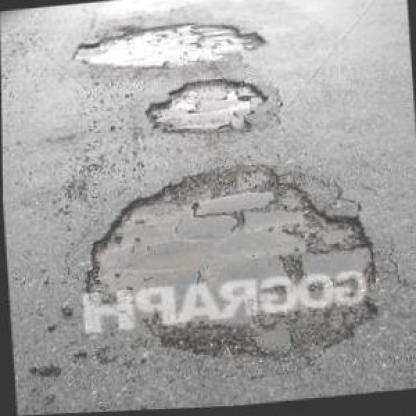pothole: (74, 147, 390, 380), (71, 16, 270, 70), (140, 74, 272, 142)
